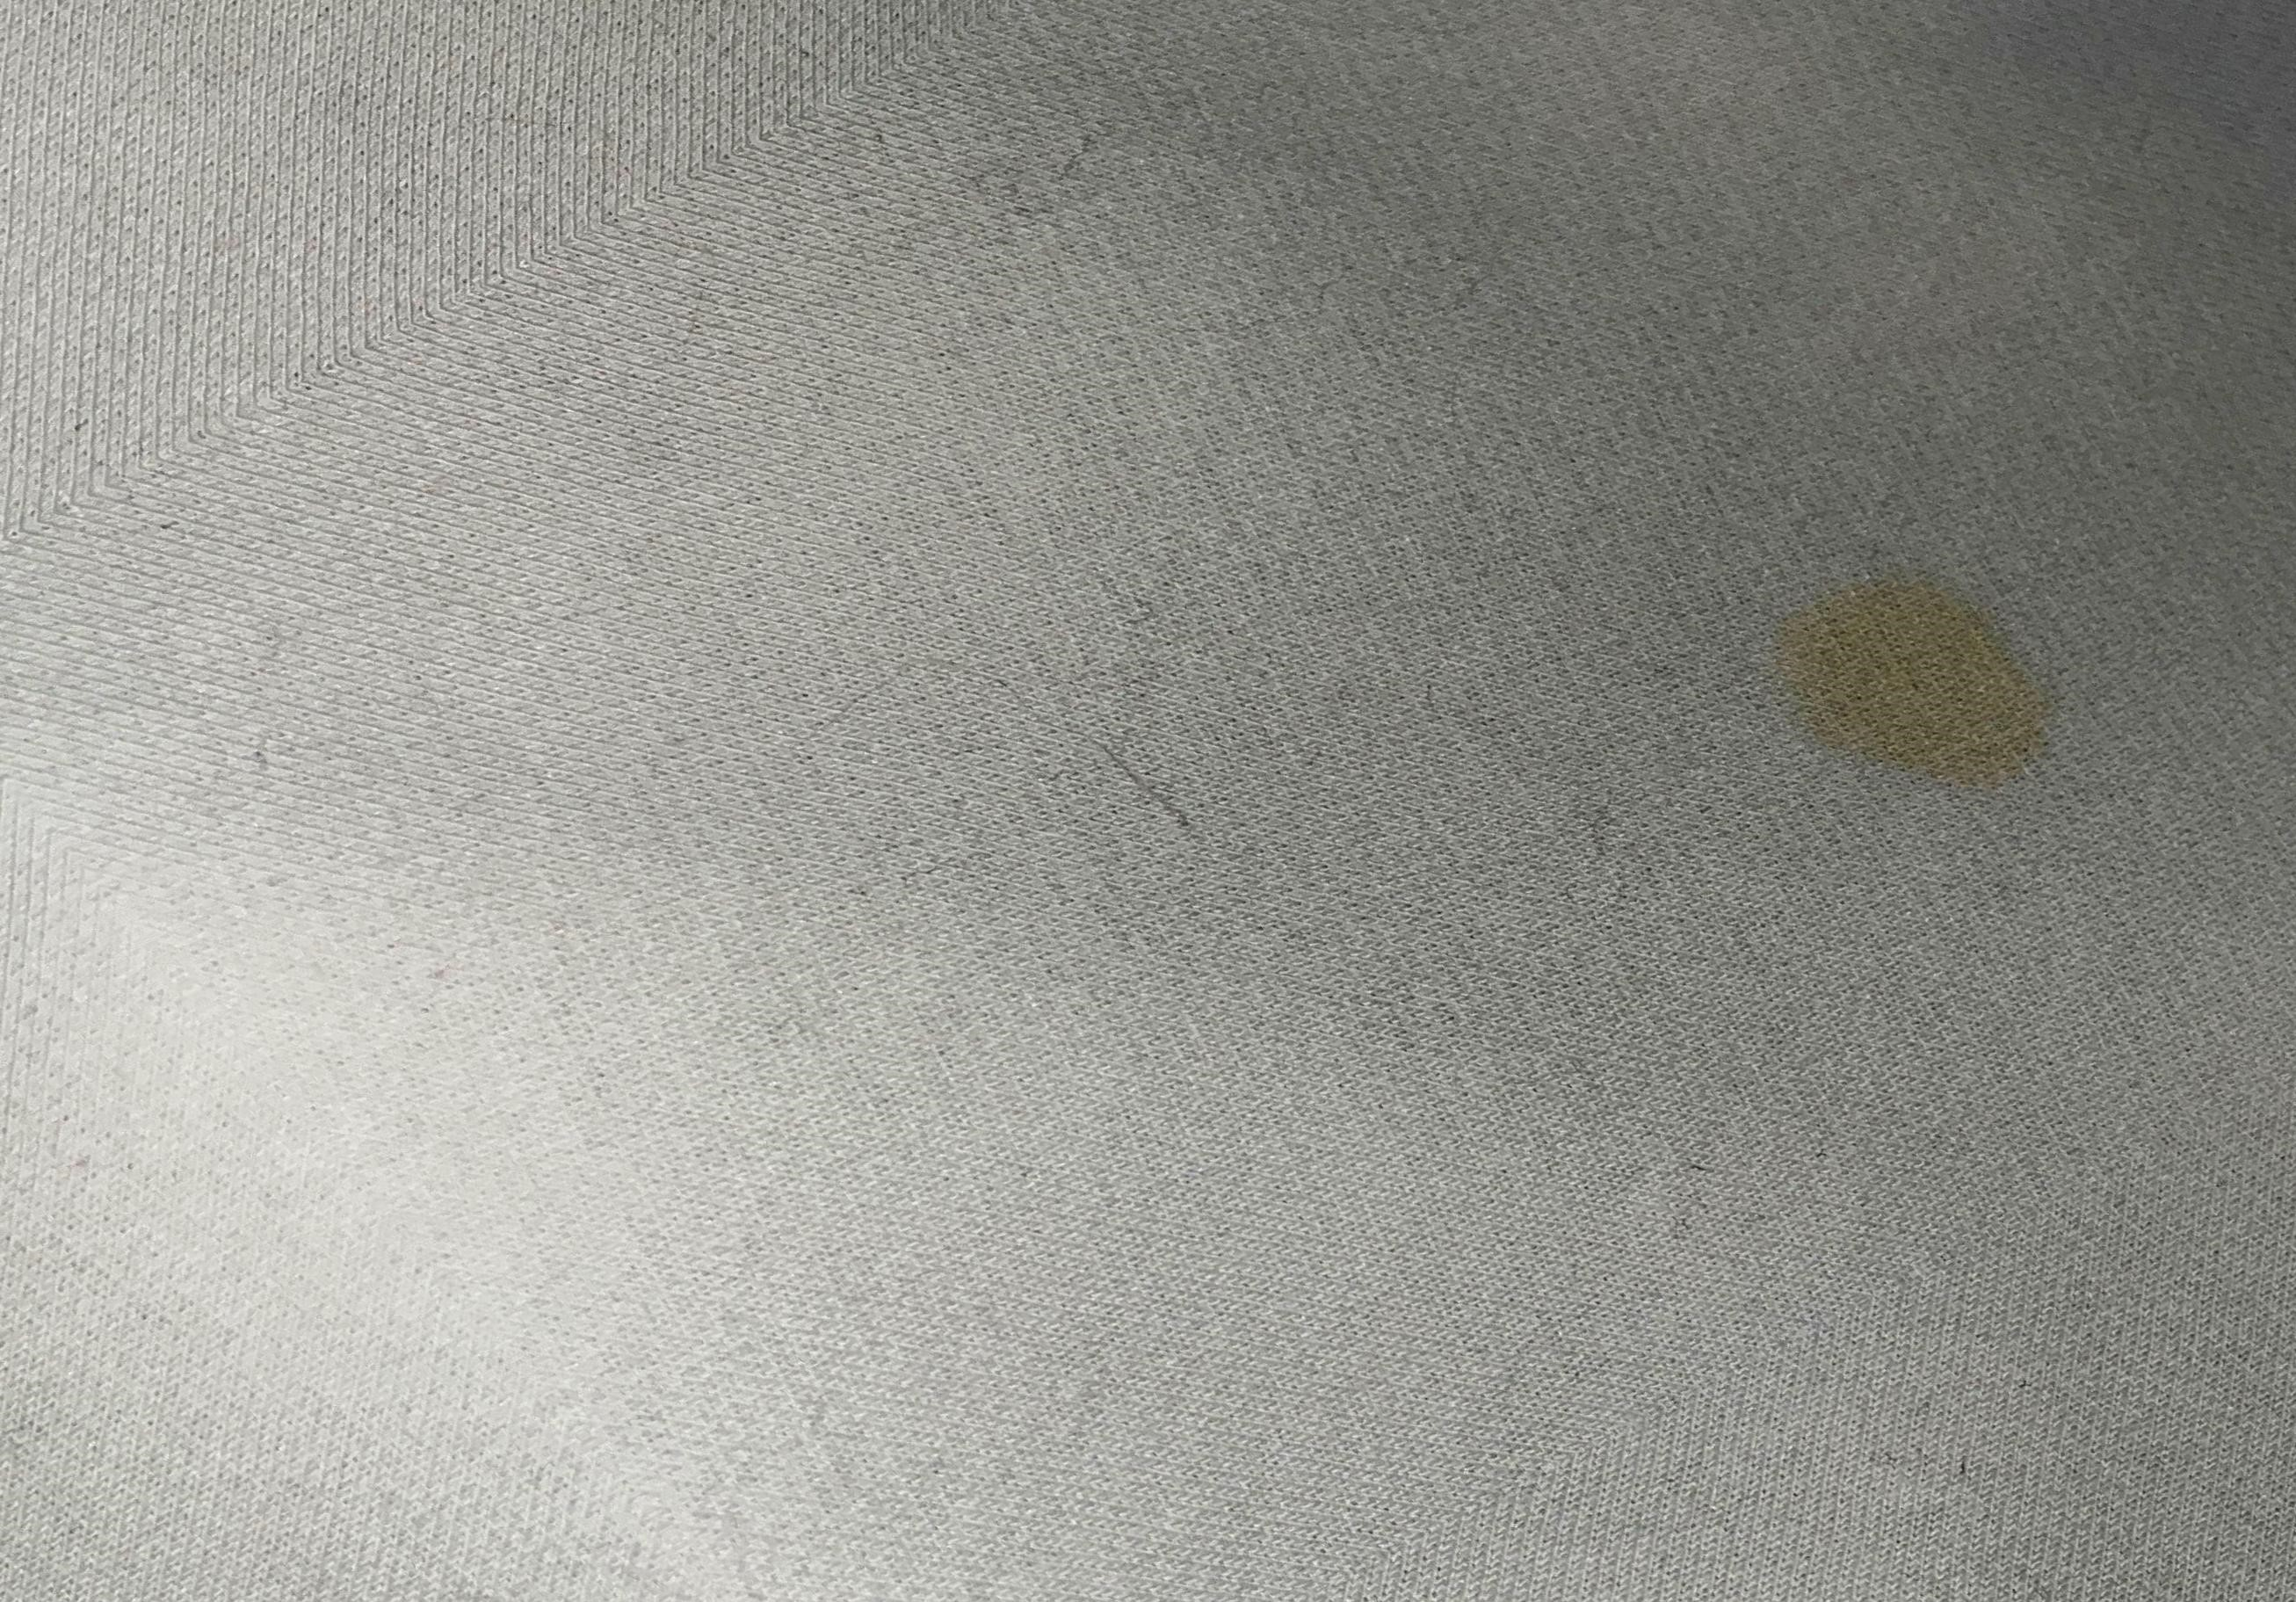stain: (1750, 541, 2076, 804)
